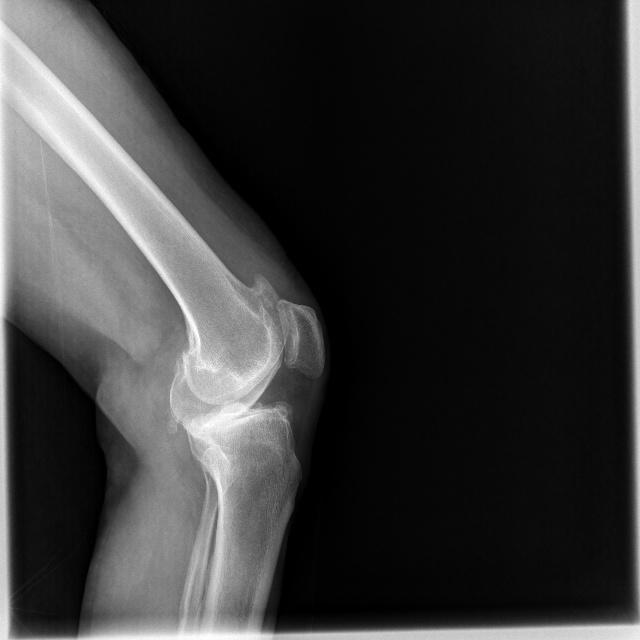Knee: (165, 298, 327, 455)
